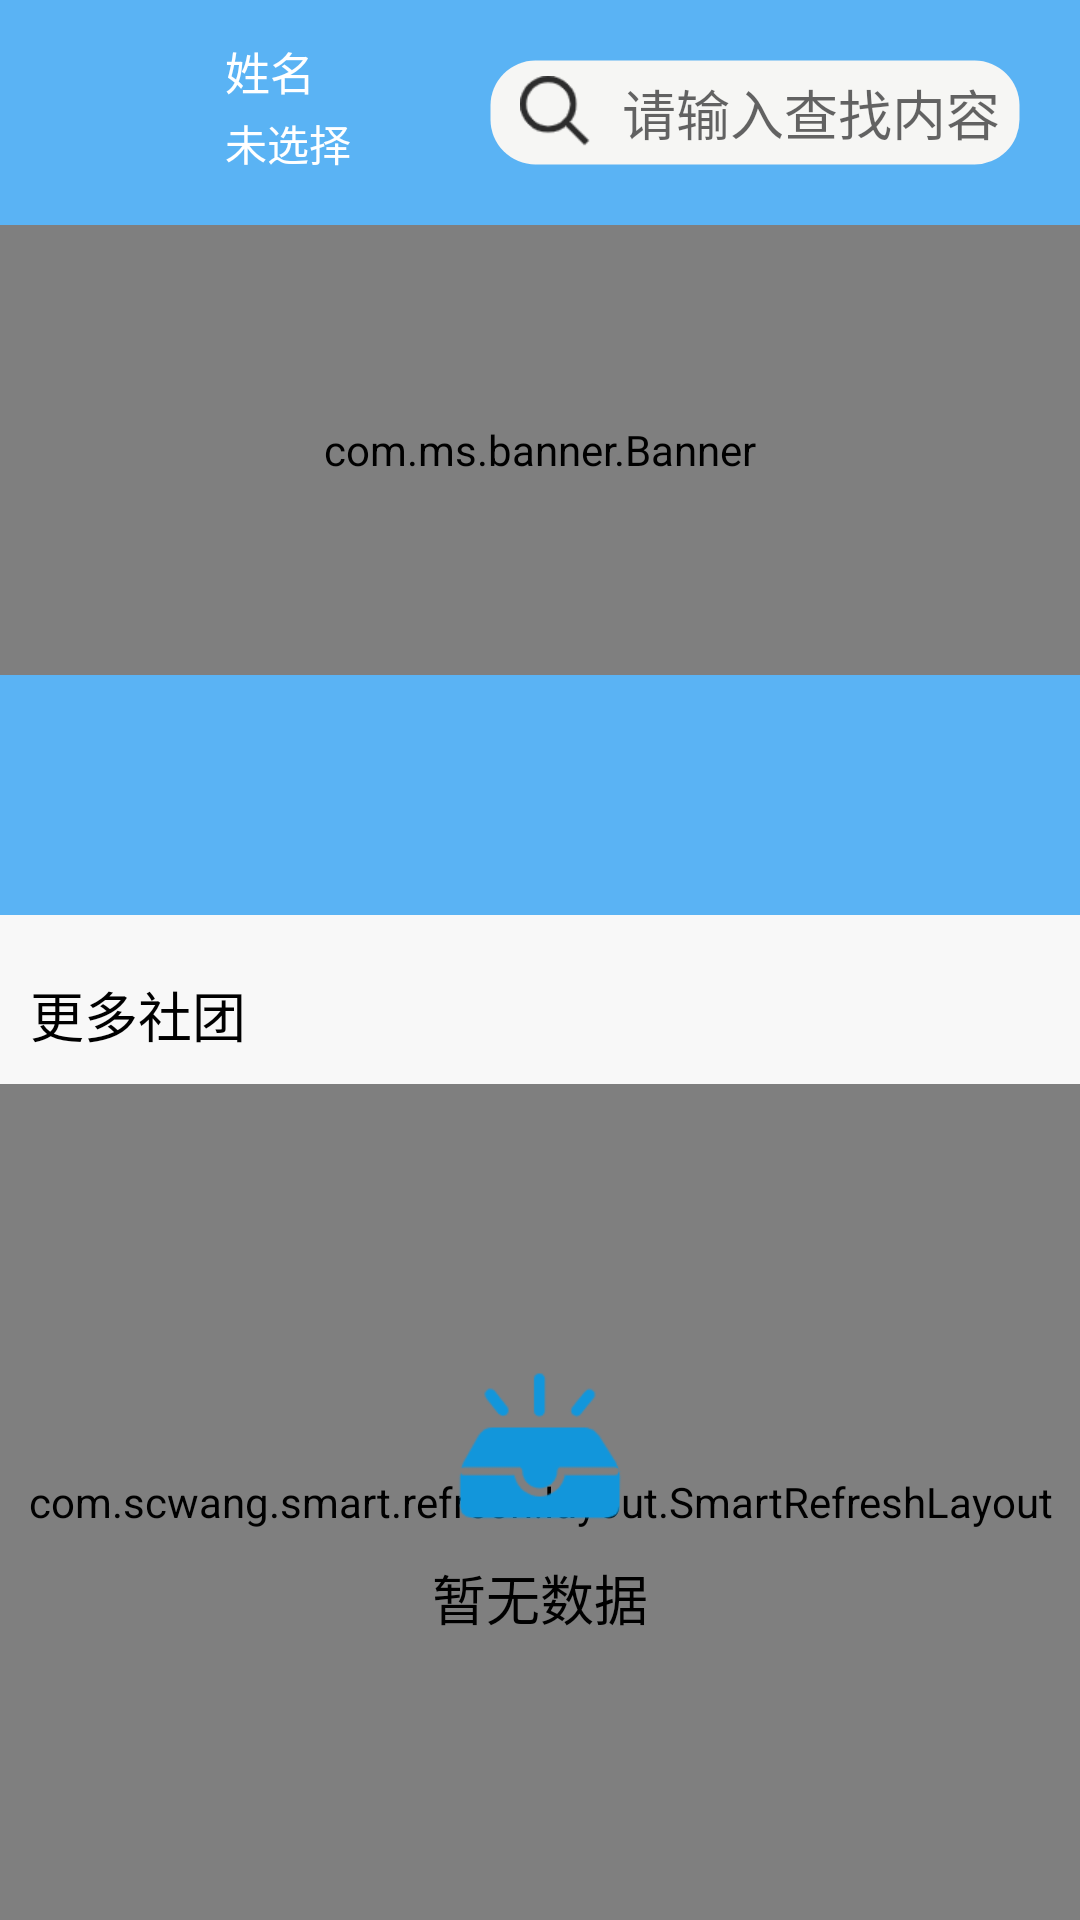

Named icons in this screenshot (1080*1920) and their bounding boxes, (x1, y1, x2, y2):
search: (520, 76, 589, 145)
